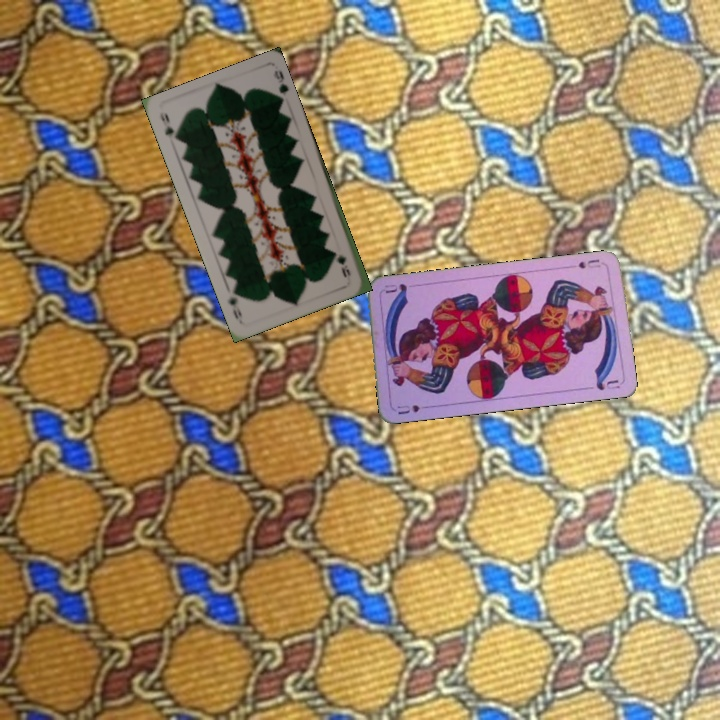G9: (156, 108, 181, 144), (334, 251, 353, 280)
SU: (393, 401, 434, 417), (574, 255, 602, 271)
